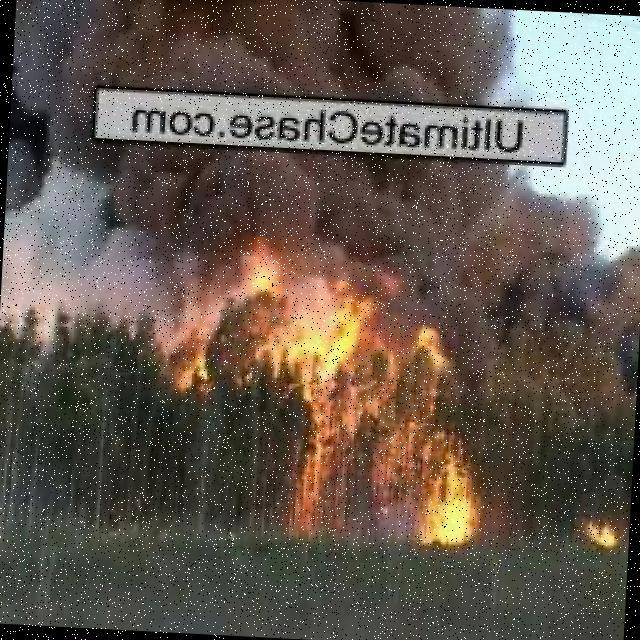Fire: (285, 297, 377, 531), (414, 428, 487, 552), (153, 316, 224, 389), (579, 512, 620, 548), (239, 245, 275, 283)
